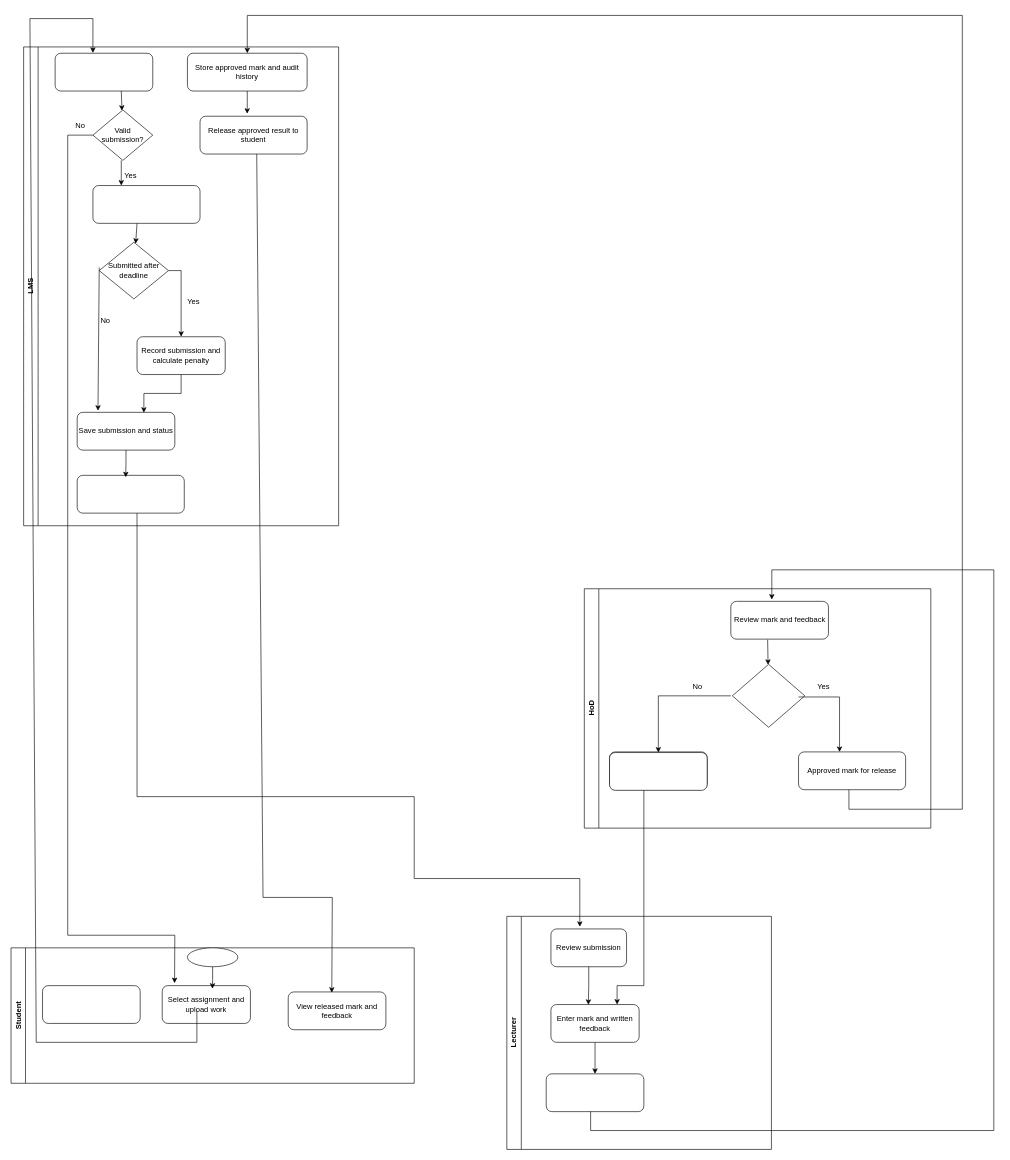
This 1010x1160 diagram has some shape labels left out. Each missing label, with the centre of its shape:
"Approved mark?" belongs at point 768,695.
"Correct work and resubmit if permitted" belongs at point 91,1004.
"Determine applicable deadline" belongs at point 146,204.
"Make submission available for marking" belongs at point 130,494.
"Return mark for correction" belongs at point 658,771.
"Start" belongs at point 212,957.
"Submit mark for moderation" belongs at point 595,1092.
"Validate student enrolment and assignment" belongs at point 103,72.
